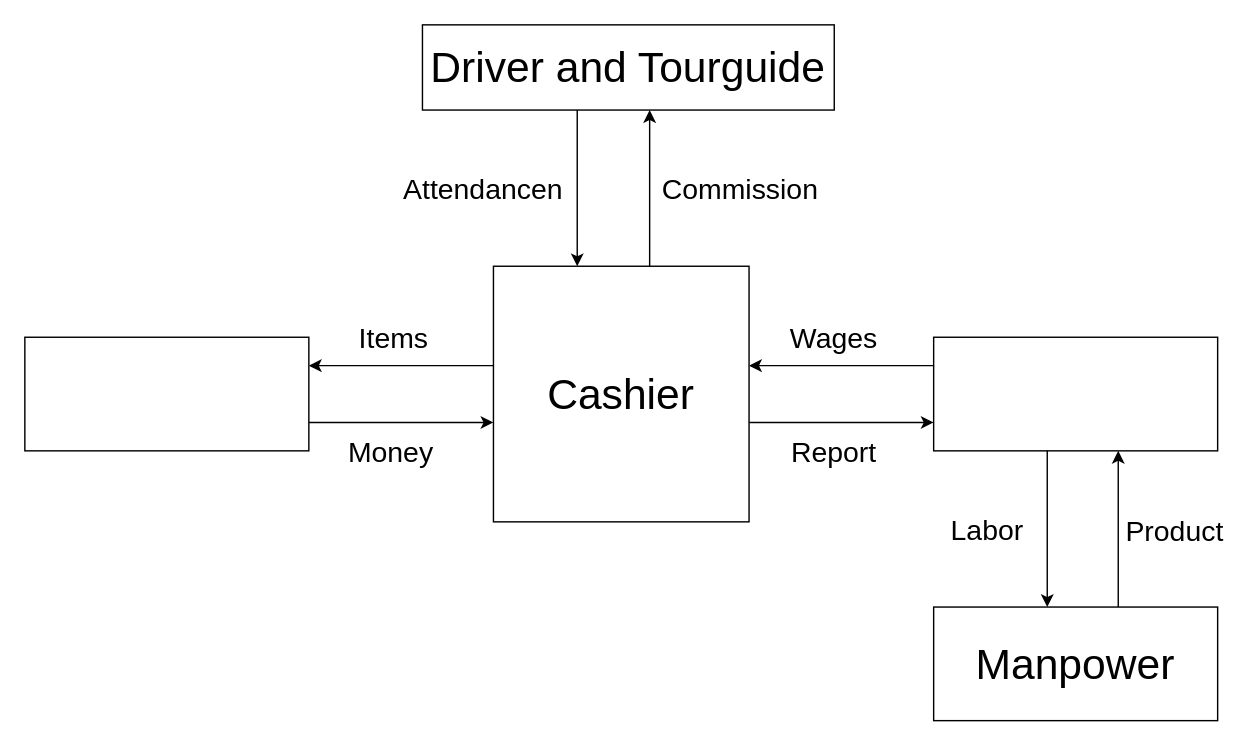
This 1248x746 diagram has some shape labels left out. Here are the shapes that lost their labels. From the top down, the box of each, then its label:
(23, 336, 309, 451): Tourist purchased item
(932, 336, 1218, 451): Manager
